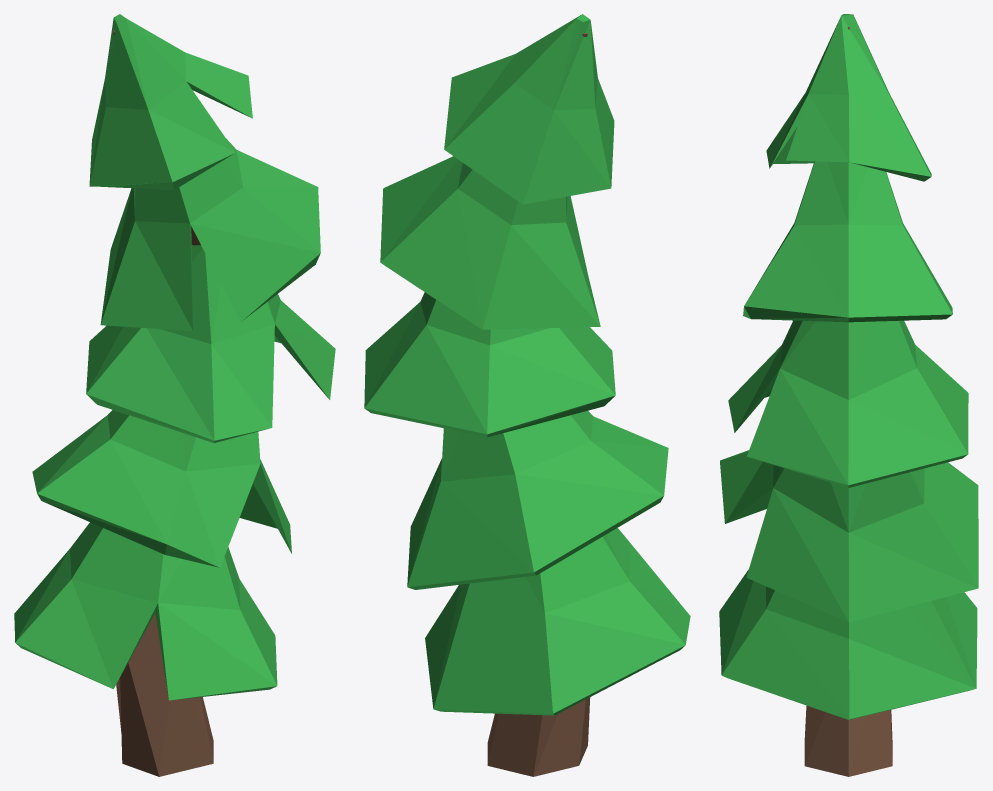
File: tree_2_1.FBX
The picture shows the model from 3 angles, left to right: view 1: azimuth 30°, elevation 25°; view 2: azimuth 150°, elevation 25°; view 3: azimuth 270°, elevation 25°; orthographic projection. The views are drawn at different scales.
Parts seen in each view (by area): view 1: 012; view 2: 012; view 3: 012.
Part boxes in pixels (box(x1,y1,x2,y2)): 012: box(14, 14, 335, 776); 012: box(364, 14, 690, 776); 012: box(719, 14, 978, 776).
Size of the model in its own units: 22.09 by 49.33 by 16.14.
